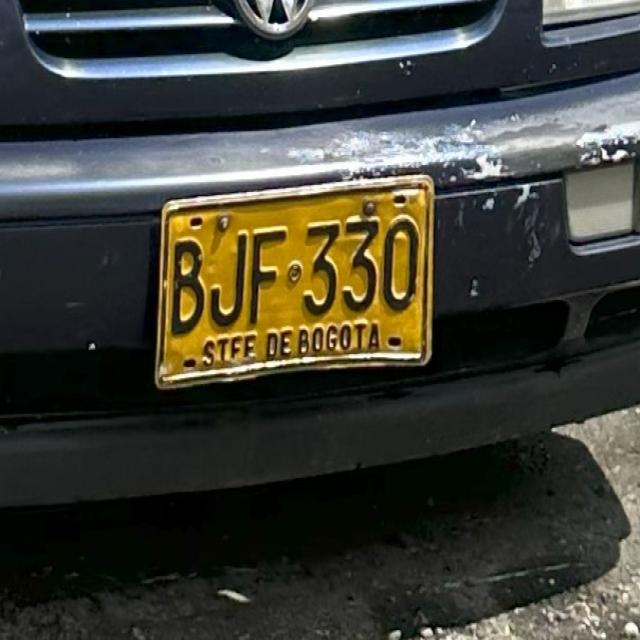number plate: (154, 175, 432, 385)
